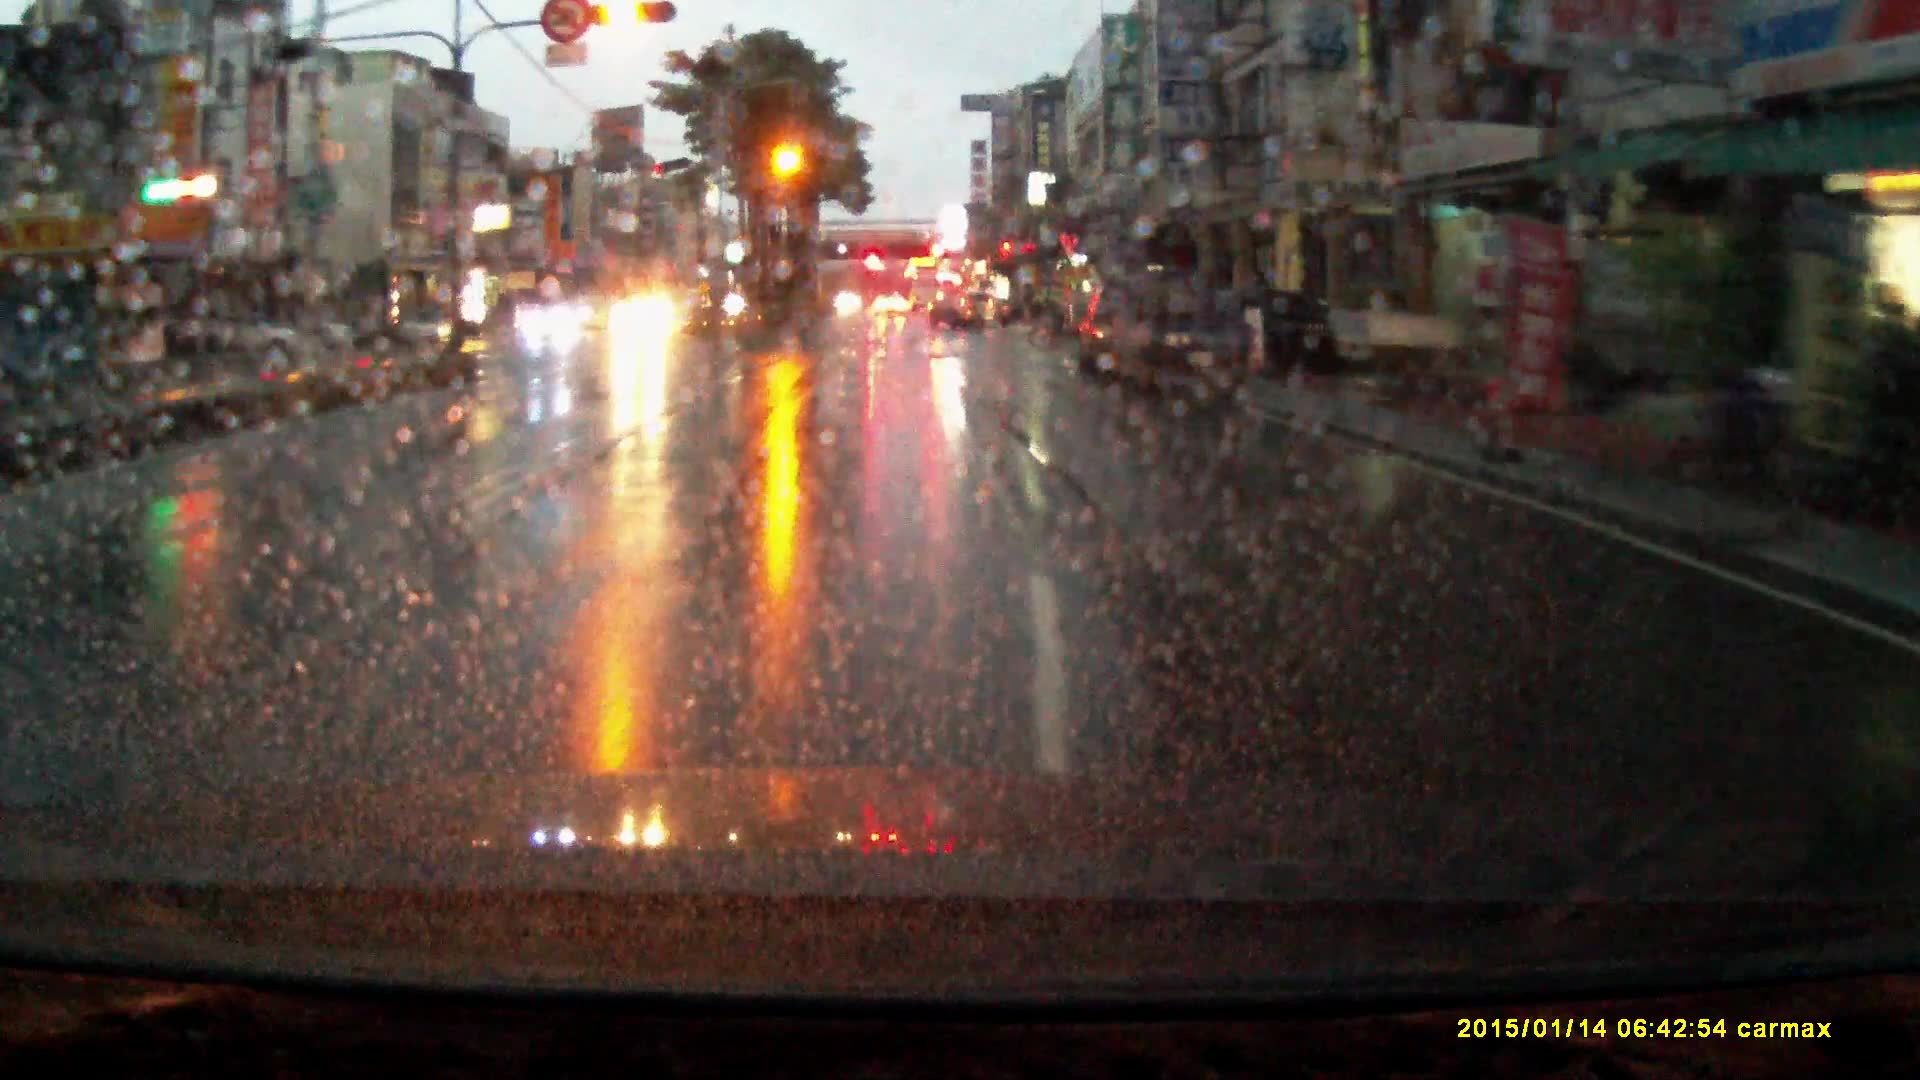vehicle: (1110, 266, 1255, 396), (1335, 309, 1528, 382), (193, 311, 309, 359), (605, 290, 680, 345), (1079, 278, 1118, 377), (287, 313, 367, 353), (930, 284, 998, 330), (398, 302, 462, 345), (525, 301, 585, 343), (911, 262, 945, 309), (874, 291, 913, 316)
